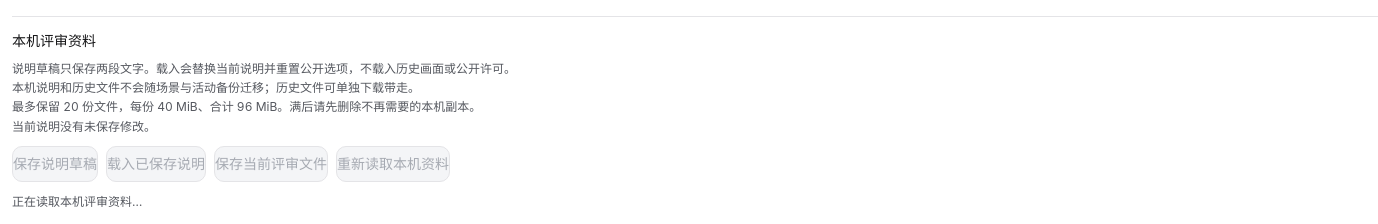
Test: local review library panel › does not save before the first read succeeds or treat an un-loaded stored draft as unsaved editing
Expected: the button "保存当前评审文件" is disabled, [214, 146, 328, 182]
Click the button "保存说明草稿" at [55, 164], box [12, 146, 98, 182]
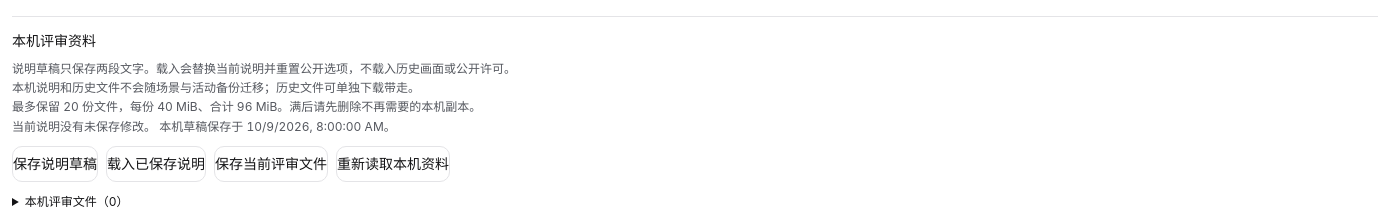
Result: the button "保存说明草稿" is enabled at [12, 146, 98, 182]
